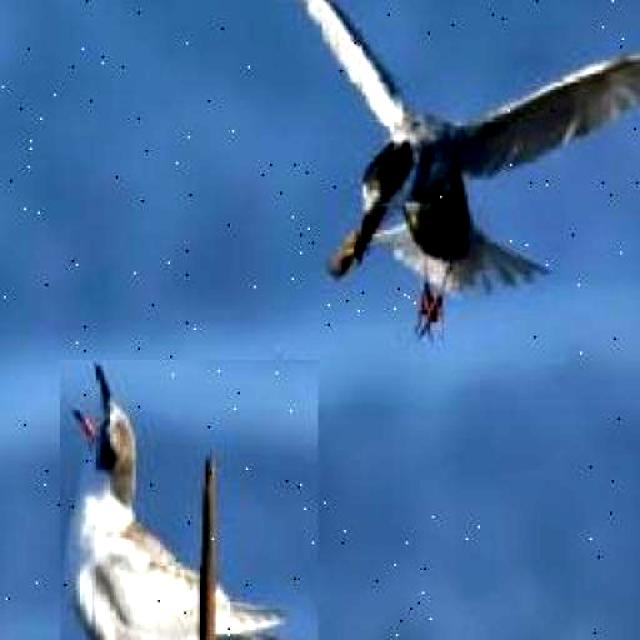airplane: (169, 0, 640, 344), (60, 360, 318, 640)
